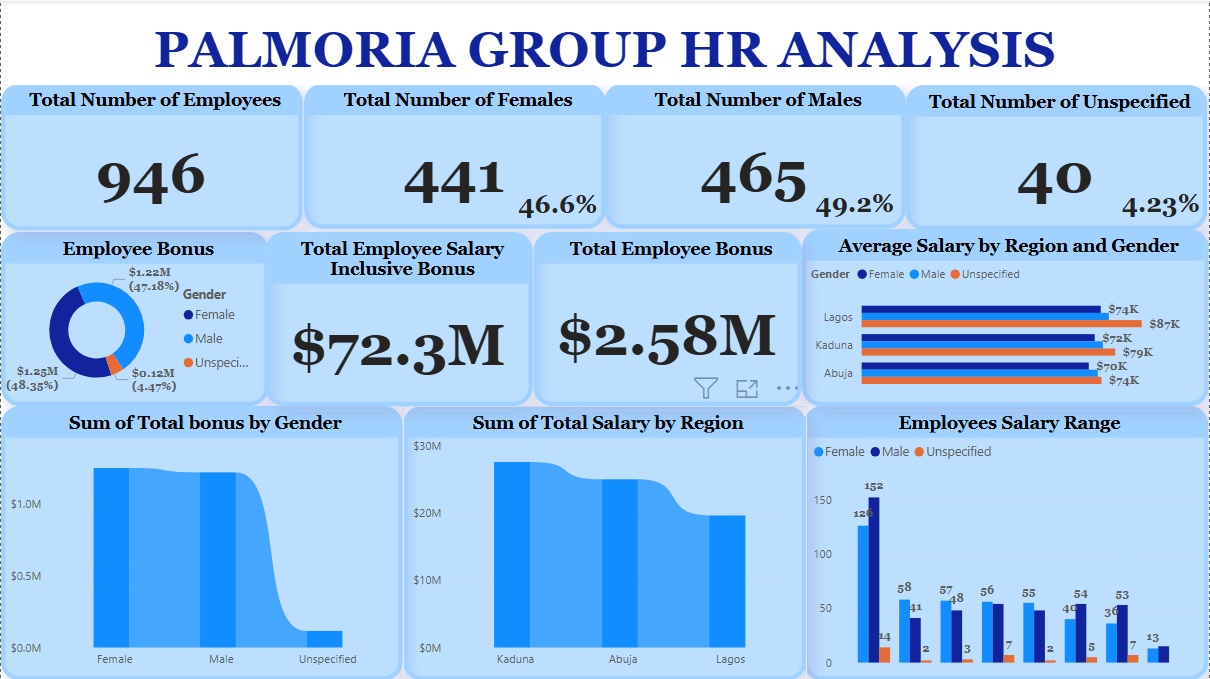

The dashboard page shown, as its layout file describes it:
{"tool":"powerbi","page":{"name":"Page 2","canvas":[1280,720],"ordinal":1},"visuals":[{"type":"clusteredColumnChart","title":"Employees Salary Range","fields":{"Y":["Palmoria Group emp-data.Female","Palmoria Group emp-data.Male","Palmoria Group emp-data.Unspecified"],"Category":["Palmoria Group emp-data.Salary Range"]},"box":[851,429.5,429.5,291.1],"z":0},{"type":"donutChart","title":"Employee Bonus","fields":{"Category":["Palmoria Group New Employee Salary.Gender"],"Y":["Sum(Palmoria Group New Employee Salary.Total bonus)"]},"box":[0,245,284,184.5],"z":1000},{"type":"card","title":"Total Number of  Employees","fields":{"Values":["CountNonNull(Palmoria Group emp-data.Gender)"]},"box":[0,87.5,319.7,155.9],"z":2000},{"type":"card","title":"Total Number of  Females","fields":{"Values":["Palmoria Group emp-data.Female"]},"box":[321.3,87.5,319.7,154.3],"z":3000},{"type":"card","title":"Total Number of  Males","fields":{"Values":["Palmoria Group emp-data.Male"]},"box":[639.4,87.5,319.7,154.3],"z":4000},{"type":"card","title":"Total Number of Unspecified","fields":{"Values":["Palmoria Group emp-data.Unspecified"]},"box":[959.1,89.1,319.7,154.3],"z":5000},{"type":"textbox","title":"CVVB","box":[0,15.9,1280.4,73.2],"z":6000},{"type":"card","fields":{"Values":["Bonus Rules.% Females"]},"box":[1178.2,184.5,101.8,58.9],"z":7000},{"type":"card","fields":{"Values":["Bonus Rules.% Male"]},"box":[854.2,184.5,101.8,58.9],"z":8000},{"type":"card","fields":{"Values":["Bonus Rules.% Female"]},"box":[539.2,186.1,101.8,58.9],"z":9000},{"type":"ribbonChart","fields":{"Y":["Sum(Palmoria Group New Employee Salary.Total bonus)"],"Category":["Palmoria Group New Employee Salary.Gender"]},"box":[0,429.5,426.3,291.1],"z":10000},{"type":"ribbonChart","title":"Sum of Total Salary by Region","fields":{"Category":["Palmoria Group New Employee Salary.Location"],"Y":["Sum(Palmoria Group New Employee Salary.Total Salary)"]},"box":[426.3,429.5,427.9,291.1],"z":11000},{"type":"clusteredBarChart","title":"Average Salary by Region and Gender","fields":{"Category":["Palmoria Group New Employee Salary.Location"],"Y":["Avg(Palmoria Group New Employee Salary.Salary)"],"Series":["Palmoria Group New Employee Salary.Gender"]},"box":[849.4,241.8,431.1,187.7],"z":12000},{"type":"card","title":"Total Employee Salary Inclusive Bonus","fields":{"Values":["Sum(Palmoria Group New Employee Salary.Total Salary)"]},"box":[279.9,245,284,184.5],"z":12001},{"type":"card","title":"Total Employee Bonus","fields":{"Values":["Sum(Palmoria Group New Employee Salary.Total bonus)"]},"box":[564.7,245,284.7,184.5],"z":12002}]}

Visuals, with their boxes in screenshot pixels (x1, y1, x2, y2), scaled from the page's 1280x720 canvas onto the 1210x679 screenshot:
"Employees Salary Range" clusteredColumnChart: [804,405,1209,678]
"Employee Bonus" donutChart: [0,231,268,405]
"Total Number of  Employees" card: [0,83,302,230]
"Total Number of  Females" card: [304,83,606,228]
"Total Number of  Males" card: [604,83,907,228]
"Total Number of Unspecified" card: [907,84,1209,230]
"CVVB" textbox: [0,15,1209,84]
card - Bonus Rules.% Females: [1114,174,1209,230]
card - Bonus Rules.% Male: [807,174,904,230]
card - Bonus Rules.% Female: [510,176,606,231]
ribbonChart - Sum(Palmoria Group New Employee Salary.Total bonus) x Palmoria Group New Employee Salary.Gender: [0,405,403,678]
"Sum of Total Salary by Region" ribbonChart: [403,405,807,678]
"Average Salary by Region and Gender" clusteredBarChart: [803,228,1209,405]
"Total Employee Salary Inclusive Bonus" card: [265,231,533,405]
"Total Employee Bonus" card: [534,231,803,405]
